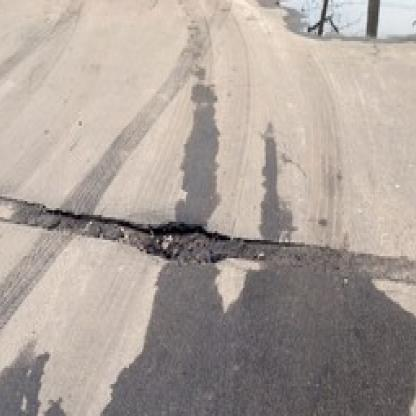pothole: (140, 220, 222, 268)
